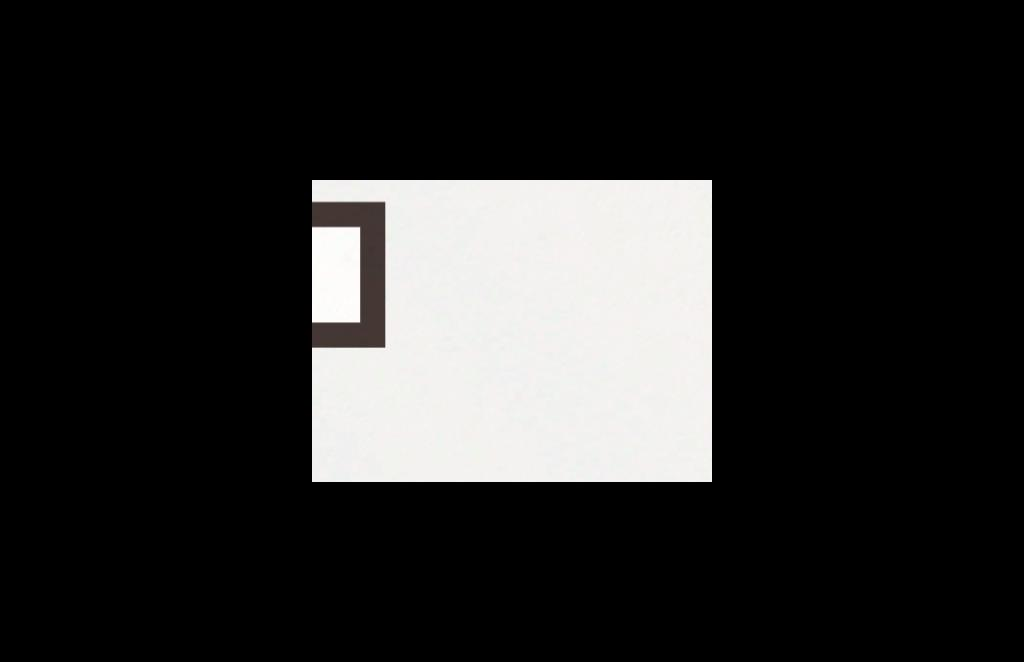unconnected_station: (312, 193, 437, 366)
